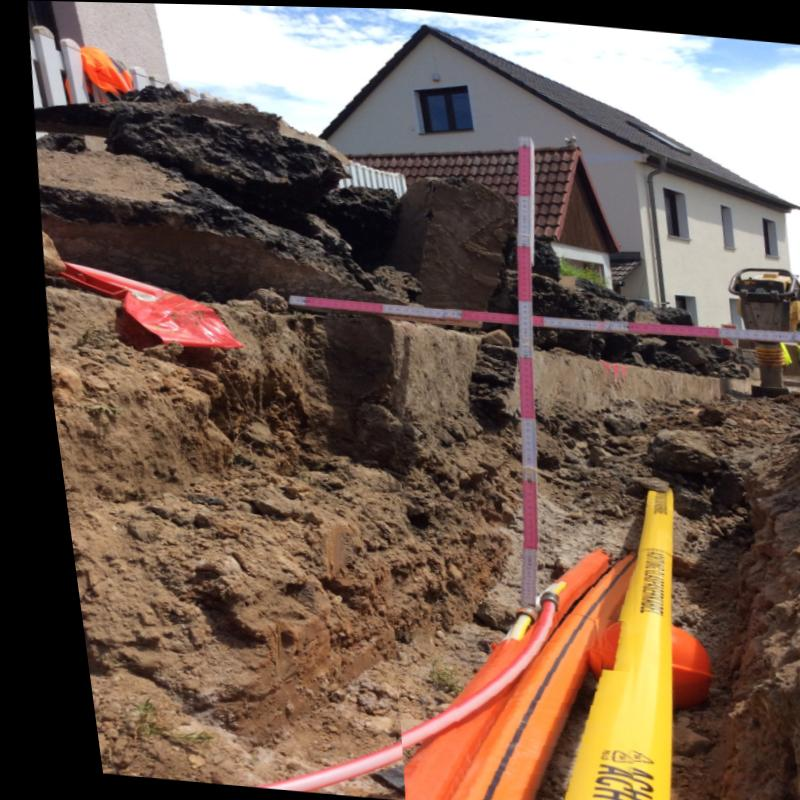Kugelmarker: (657, 623, 689, 706), (580, 619, 609, 667)
Orang-Speednetrohrchen: (382, 547, 618, 800)
